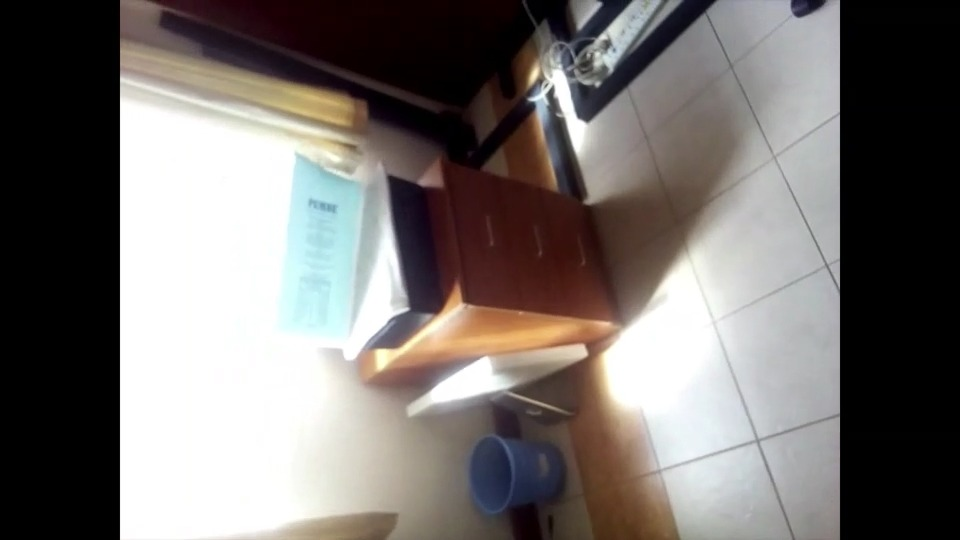wheat_flour_blue_label: (267, 157, 360, 340)
